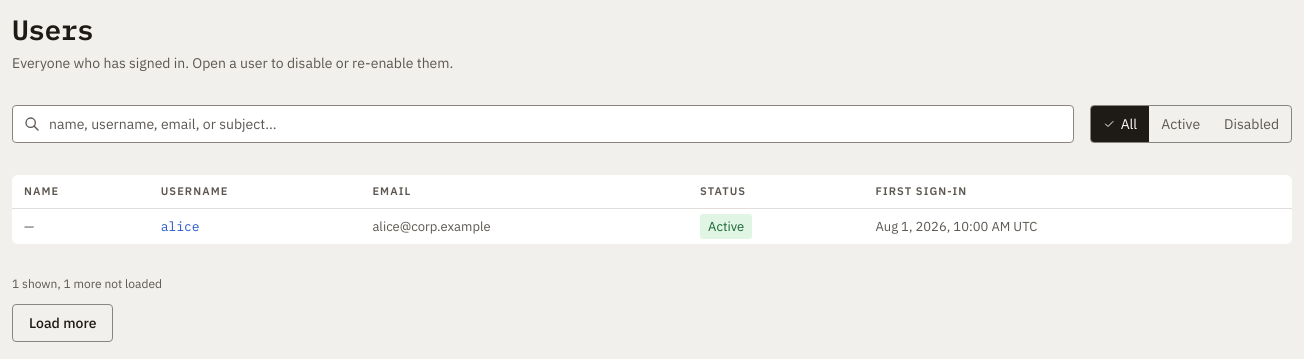
Test: Admin users list › should append the next page below the users already shown
Click the button with test id "users-load-more" at (63, 323), box [12,304,114,342]
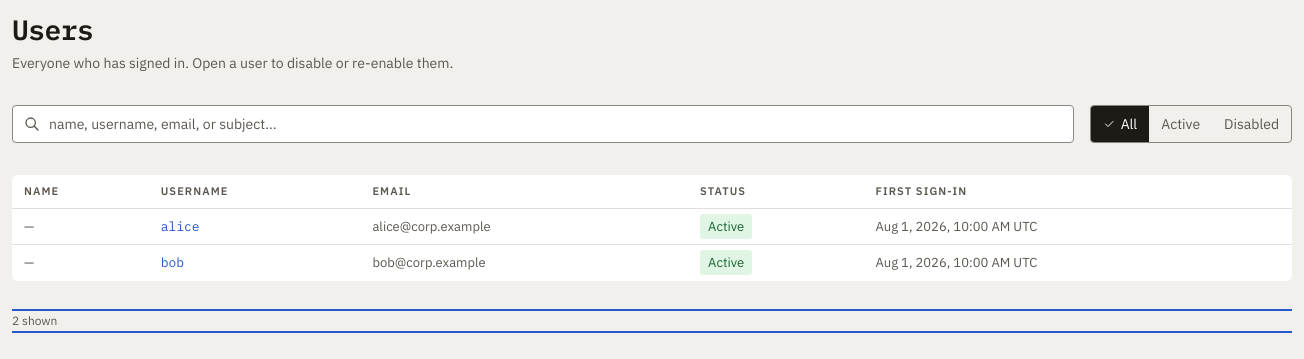
Check: the link "alice" is shown, box [161,218,200,234]
Check: the link "bob" is shown, box [161,254,184,271]
